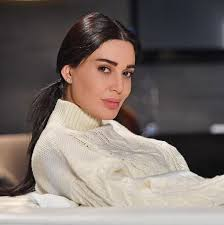middle_eastern_Female: (59, 36, 137, 115)
